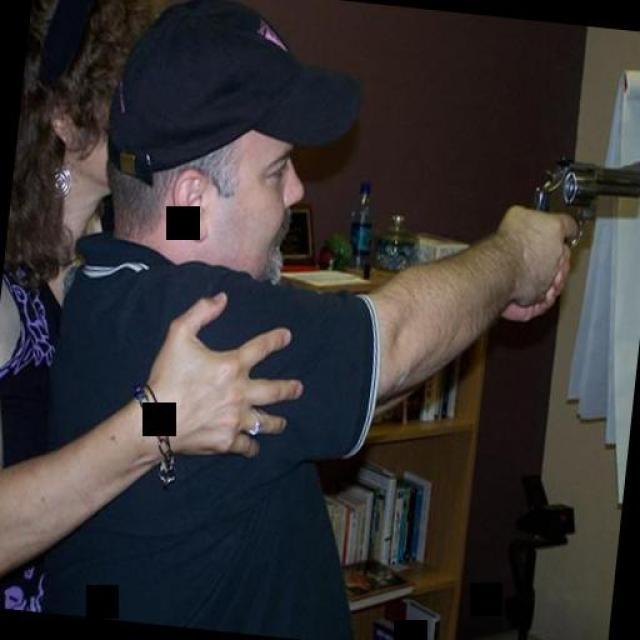gun: (522, 148, 640, 252)
